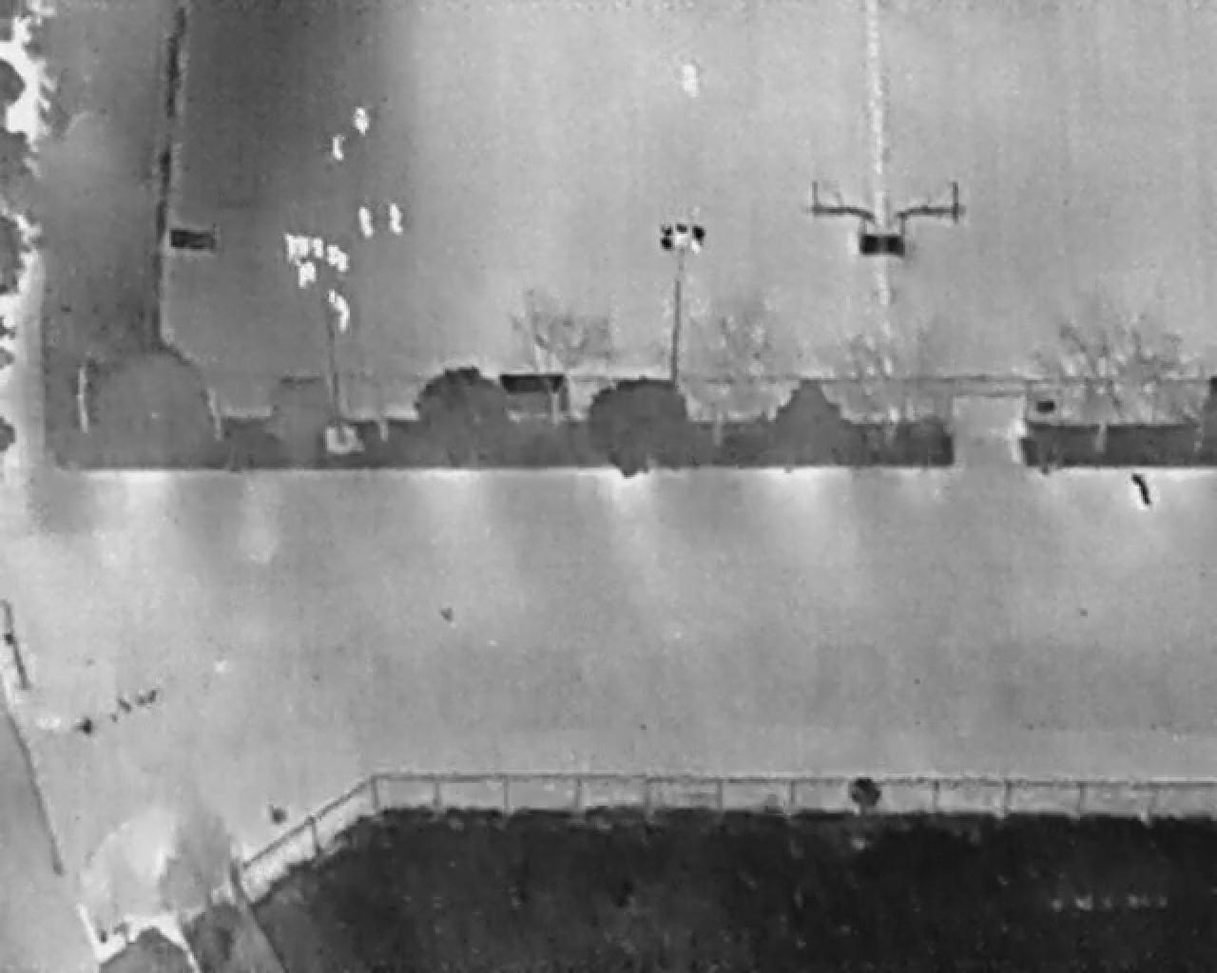person: (330, 290, 351, 334), (680, 60, 703, 100), (389, 202, 408, 237), (358, 206, 376, 238), (355, 107, 370, 136), (332, 134, 347, 162), (284, 233, 299, 261), (305, 261, 319, 284), (298, 265, 309, 290)
